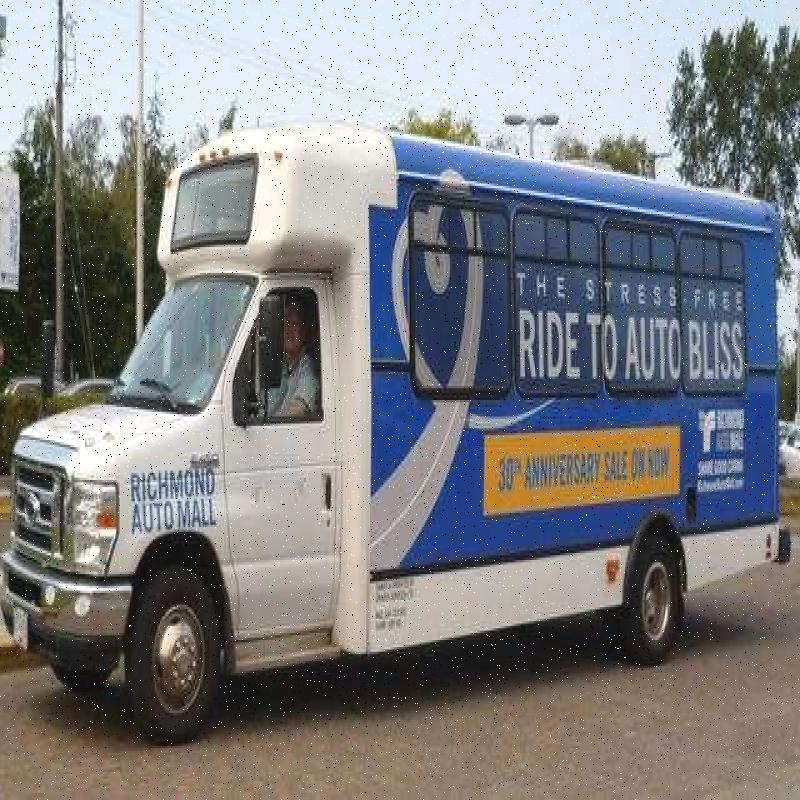bus: (14, 103, 789, 687)
